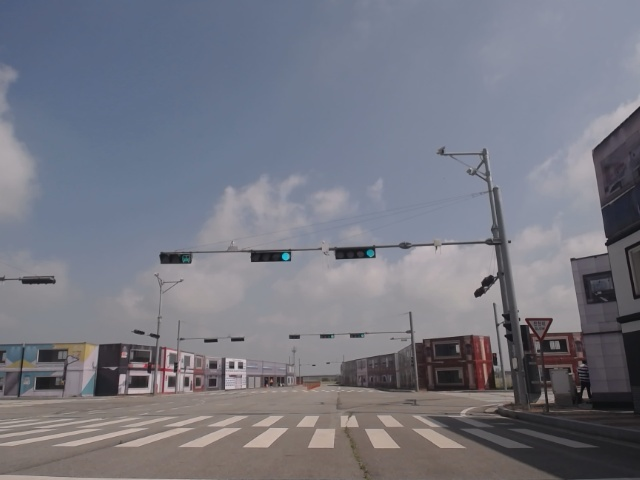straight_green_4: (336, 248, 375, 259), (252, 251, 291, 261)
